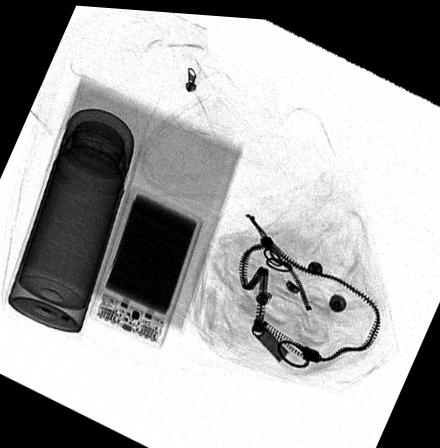Powerbank: (88, 181, 205, 348)
